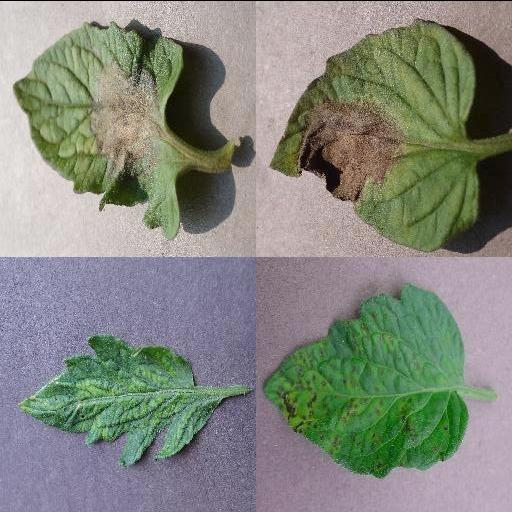Late Blight: (268, 16, 478, 252), (12, 21, 184, 239)
Mosaic Virus: (16, 332, 216, 466)
Septoria: (262, 280, 470, 478)
